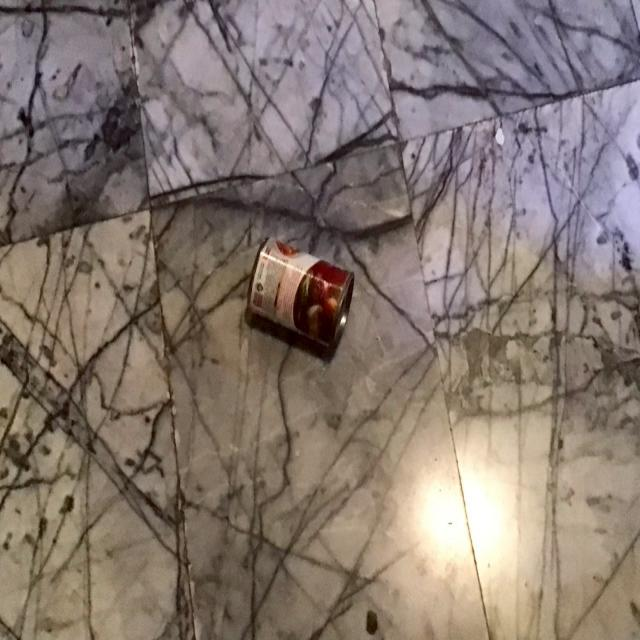can: (244, 236, 354, 368)
